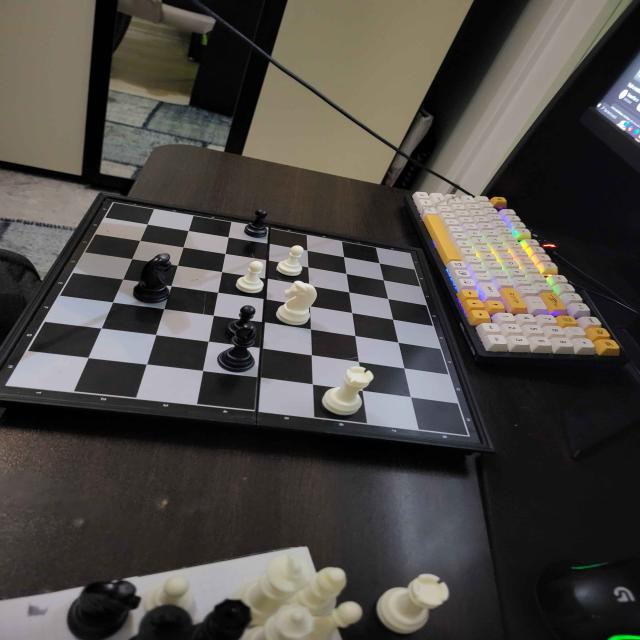black-bishop: (214, 321, 260, 375)
black-knight: (128, 250, 179, 309)
black-pawn: (224, 303, 258, 339), (242, 208, 271, 241)
chess-board: (4, 193, 475, 460)
white-knight: (274, 278, 320, 332)
white-pawn: (234, 260, 269, 295), (272, 244, 308, 278)
white-rook: (370, 571, 457, 635), (319, 364, 376, 418)
